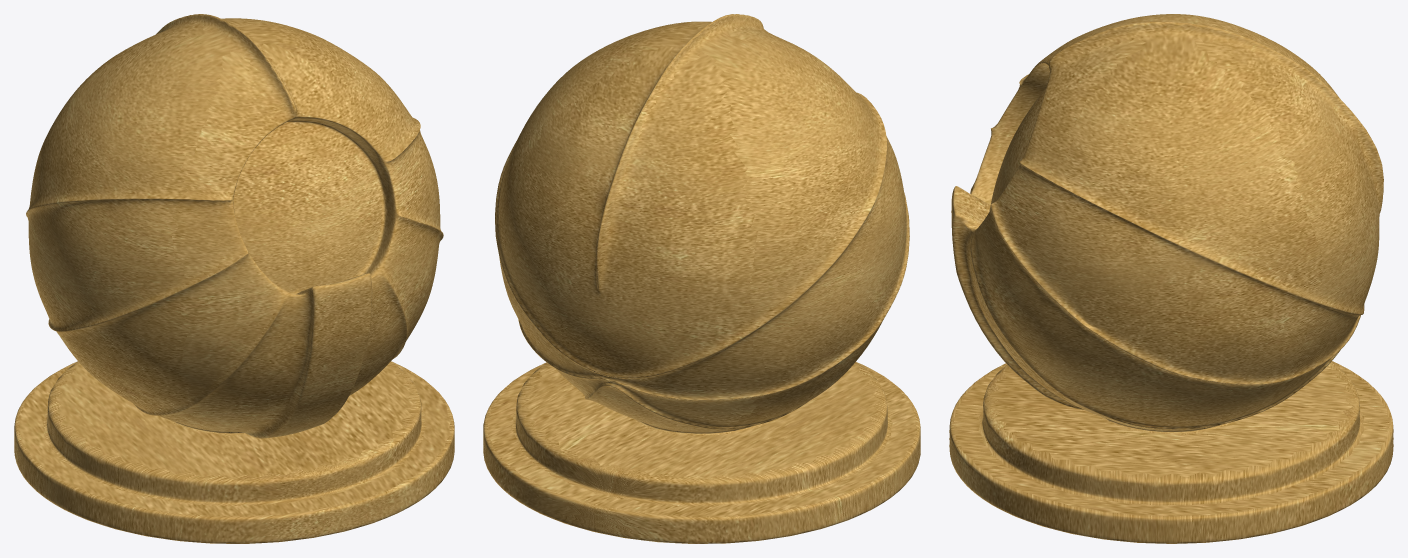
Rendered from Sphere_Gold.fbx.
3 views of the same model, side by side, from view 1: azimuth 30°, elevation 25°; view 2: azimuth 150°, elevation 25°; view 3: azimuth 270°, elevation 25° (orthographic).
Visible parts, largest first — view 1: Cylinder.001; view 2: Cylinder.001; view 3: Cylinder.001.
Boxes of the visible parts, x1,y1,x2,y2 form: Cylinder.001: (14, 14, 454, 543); Cylinder.001: (483, 14, 920, 543); Cylinder.001: (949, 14, 1393, 543).
Bounding box in the file's own units: 1.97 × 2.1 × 1.97.
1 material, 1 textured.
